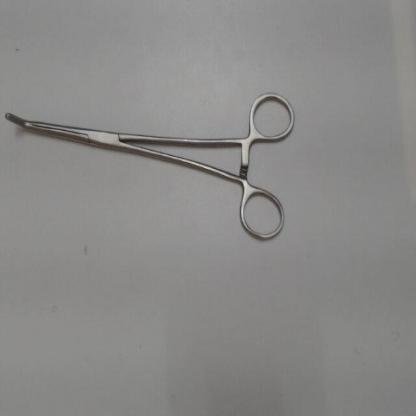Lahey Forceps: (2, 83, 298, 247)
